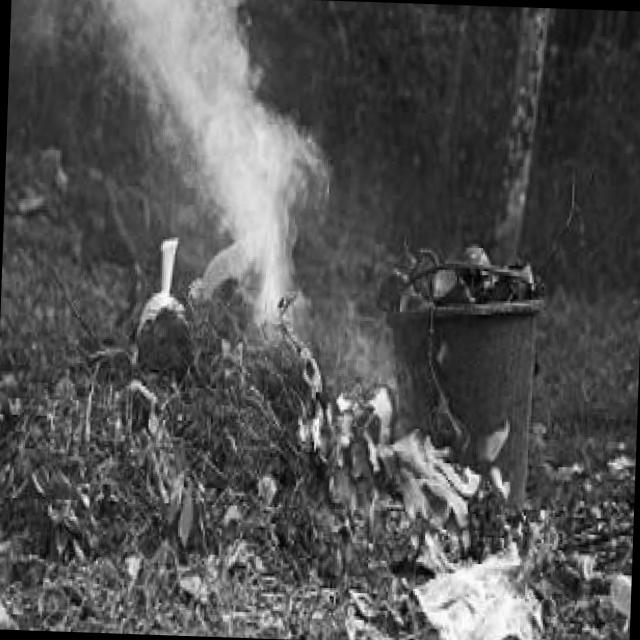fire: (411, 334, 519, 510)
smoke: (96, 0, 341, 334)
